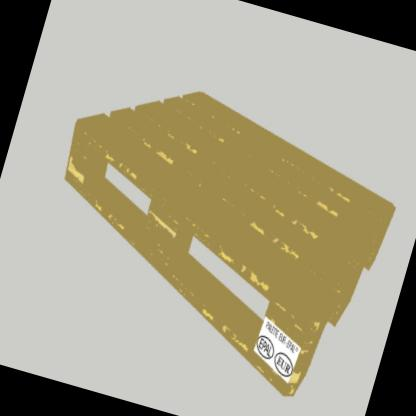BoxFace: (58, 85, 403, 404)
